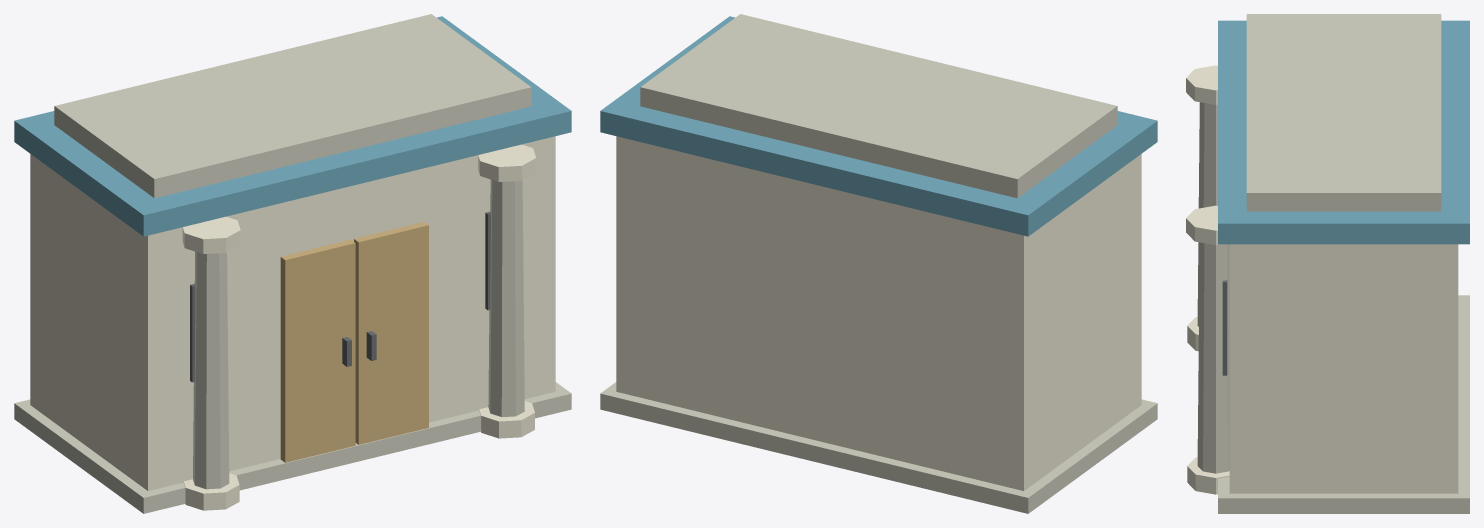
File: tidal-chart-archive-pavilion__253.glb
3 views of the same model, side by side, from view 1: azimuth 30°, elevation 25°; view 2: azimuth 150°, elevation 25°; view 3: azimuth 270°, elevation 25° (orthographic). The views are drawn at different scales.
Parts seen in each view (by area): view 1: tidal-observatory-archive-pavilion; view 2: tidal-observatory-archive-pavilion; view 3: tidal-observatory-archive-pavilion.
Boxes of the visible parts, <box> form: tidal-observatory-archive-pavilion: <box>14,14,571,513</box>; tidal-observatory-archive-pavilion: <box>600,14,1157,513</box>; tidal-observatory-archive-pavilion: <box>1186,14,1469,513</box>.
Size of the model in its own units: 4.2 by 2.98 by 2.48.
